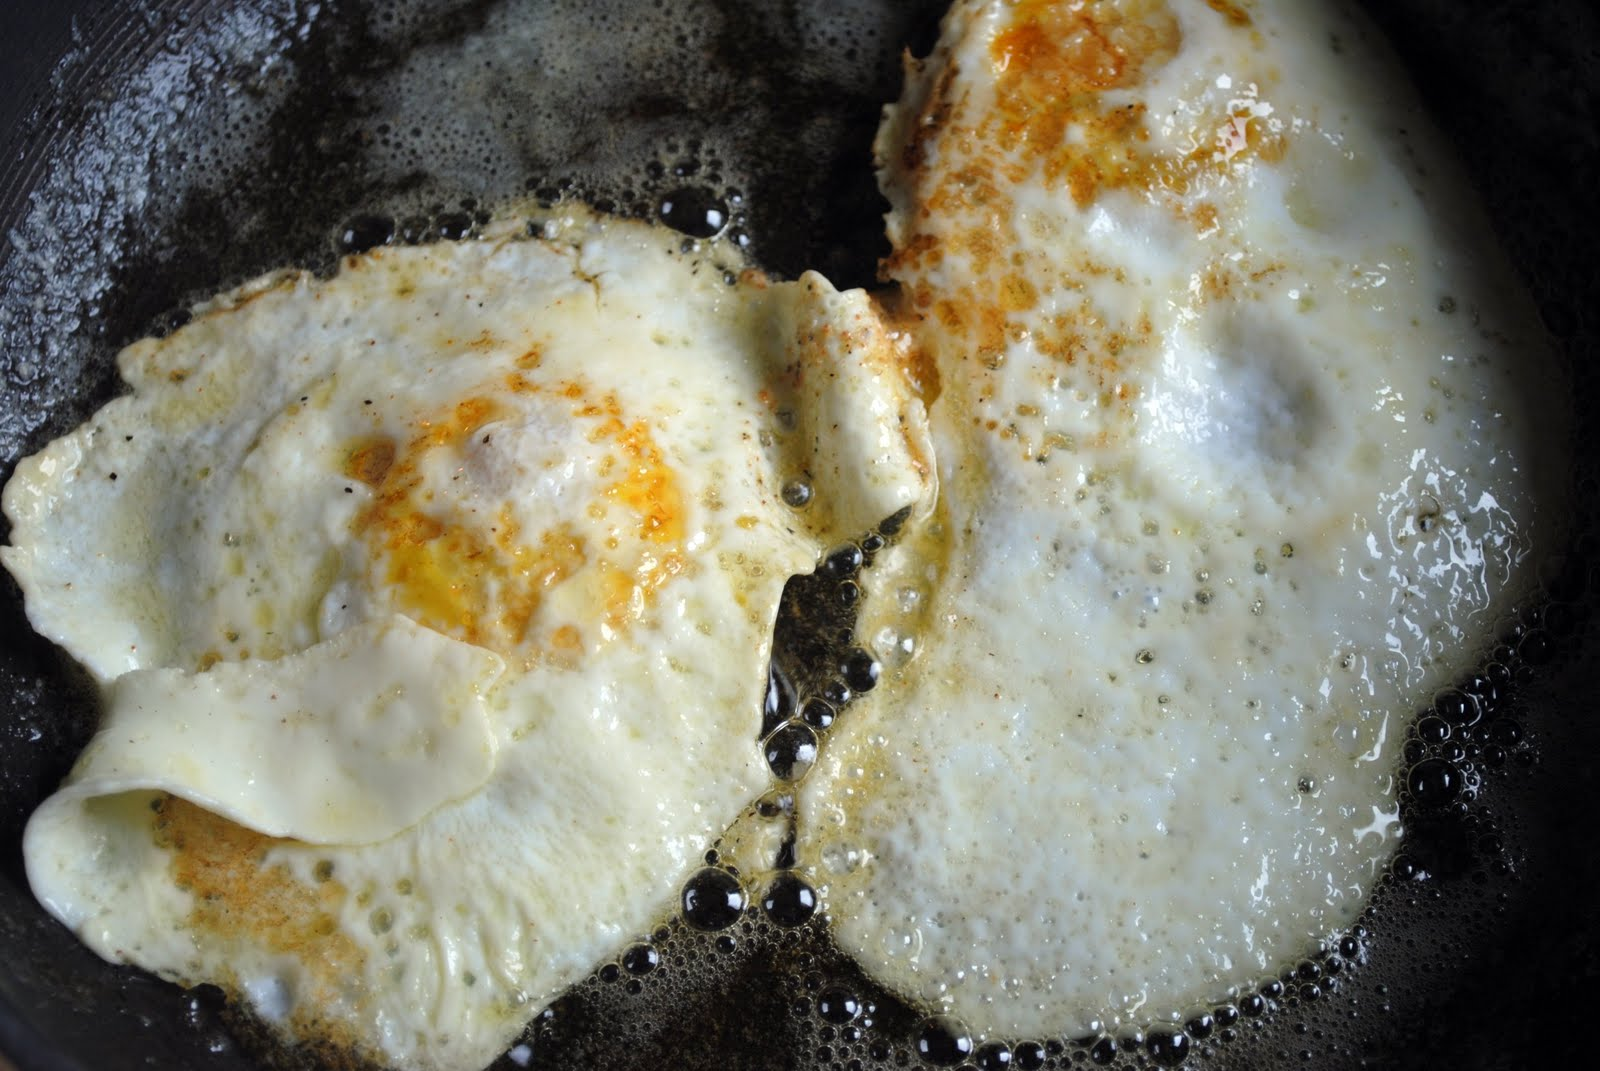fried egg: (820, 5, 1524, 1071), (7, 206, 852, 1061)
